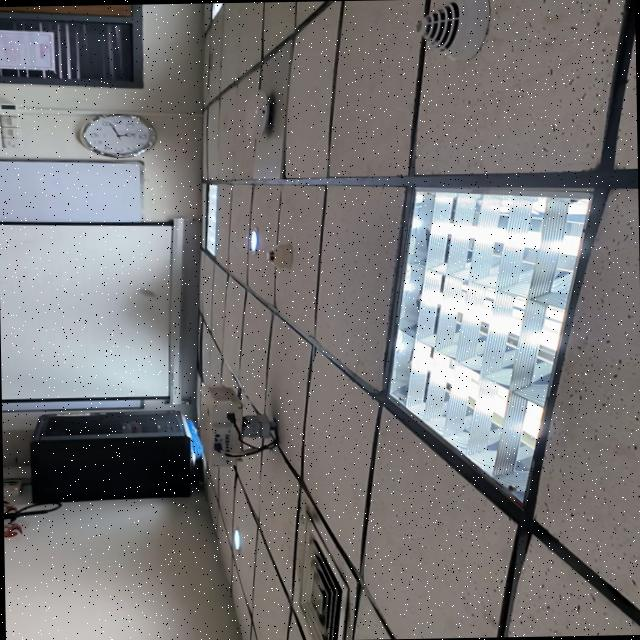Fire Extinguisher: (3, 494, 67, 514), (4, 516, 26, 536)
Light: (398, 170, 584, 510), (202, 180, 220, 260), (225, 526, 249, 548), (247, 226, 261, 252)
Projector: (191, 380, 289, 470)
